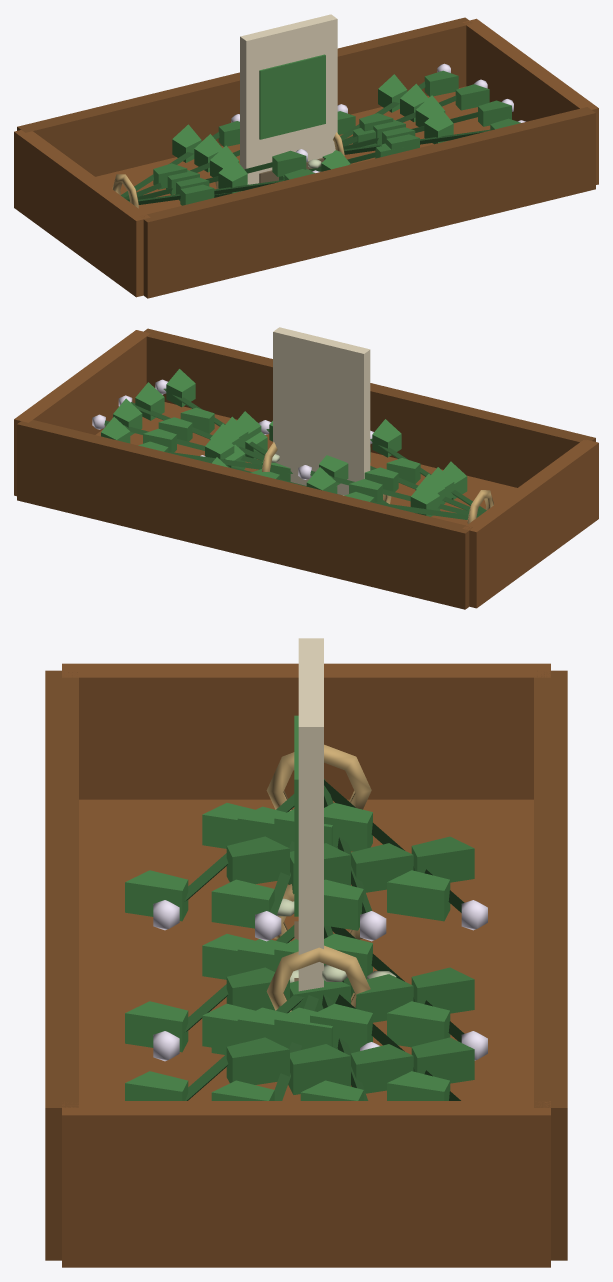
File: Crop_Herb.fbx
The picture shows the model from 3 angles, top to bottom: view 1: azimuth 30°, elevation 25°; view 2: azimuth 150°, elevation 25°; view 3: azimuth 270°, elevation 25°; orthographic projection. The views are drawn at different scales.
Visible parts, largest first — view 1: Crop_Herb__Stack, Crop_Herb__Seed, Crop_Herb; view 2: Crop_Herb__Stack, Crop_Herb__Seed, Crop_Herb; view 3: Crop_Herb__Stack, Crop_Herb, Crop_Herb__Seed, Crop_Herb__Rotten.
Part boxes in pixels (x1,y1,x2,y2): Crop_Herb__Stack: (14, 17, 598, 298); Crop_Herb__Seed: (240, 14, 337, 184); Crop_Herb: (214, 104, 409, 197); Crop_Herb__Stack: (14, 328, 598, 609); Crop_Herb__Seed: (273, 327, 370, 495); Crop_Herb: (200, 420, 391, 503); Crop_Herb__Stack: (45, 663, 567, 1267); Crop_Herb: (125, 884, 487, 1061); Crop_Herb__Seed: (294, 638, 323, 991); Crop_Herb__Rotten: (276, 898, 396, 982).
Bounding box in the file's own units: 0.254 × 0.09 × 0.1242.
